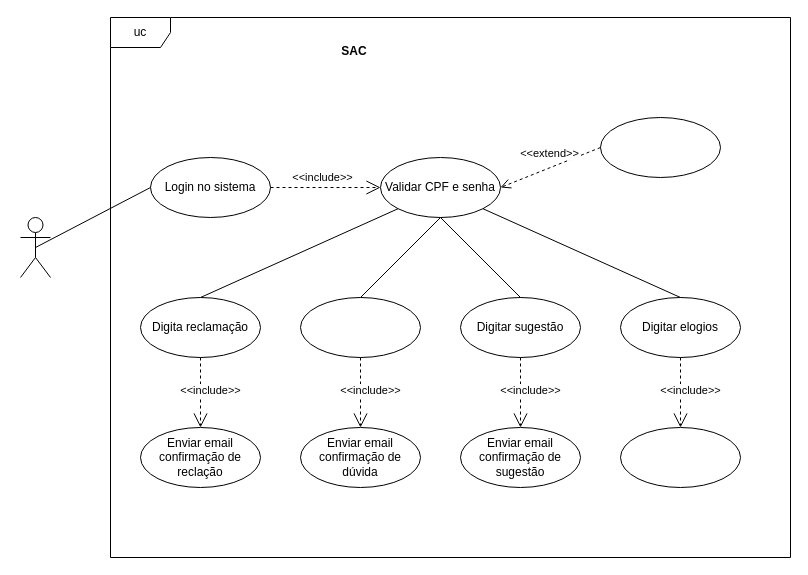
Some shapes in this 808 by 575 pixel diagram are drawn without their labels. The shapes that lost their labels are listed below. From the top down, each one's centre as x and y in pixels, then its label:
At (x=660, y=147): "Exibir mensagem de erro".
At (x=35, y=247): "Cliente".
At (x=360, y=327): "Digitar dúvida".
At (x=680, y=457): "Enviar email confirmação de elogio".
